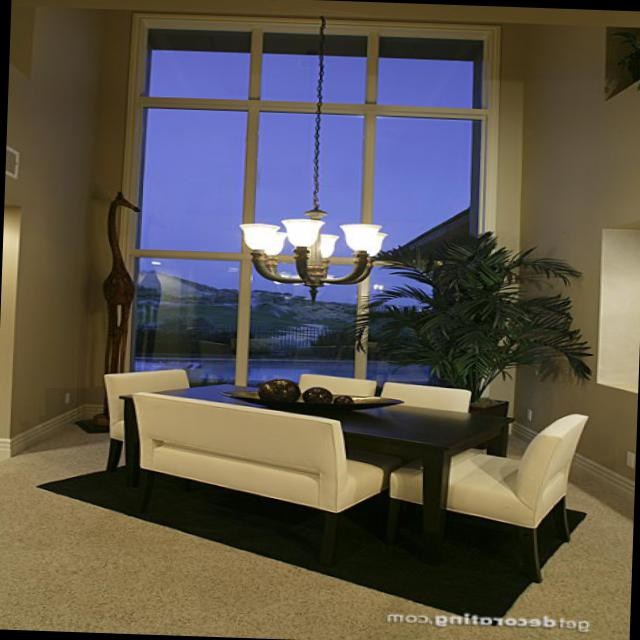2001: (297, 0, 428, 86)
bouquet: (297, 39, 375, 81), (446, 75, 502, 118)
chair: (513, 76, 580, 113), (583, 98, 640, 140), (368, 72, 431, 92)
chair -occluded-: (292, 137, 469, 242), (514, 184, 640, 248), (293, 108, 386, 150)
painting crop: (599, 10, 640, 24)
plant -x: (501, 19, 568, 66)
small table part: (505, 62, 562, 96)
table -X: (337, 83, 640, 241)
